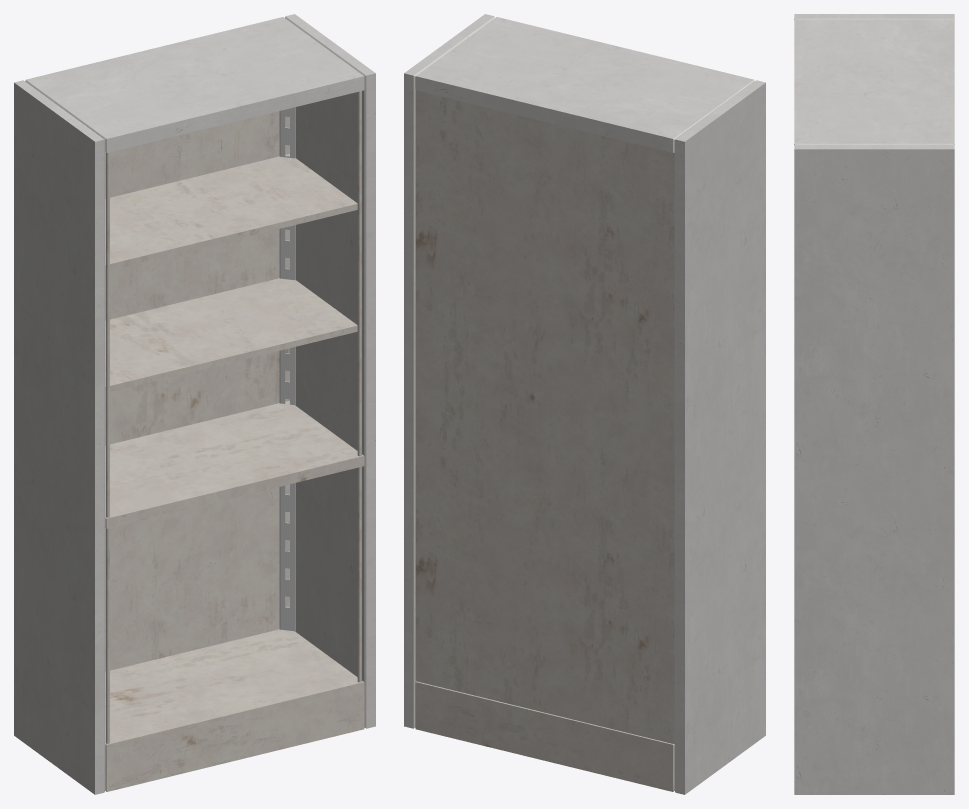
The model's file is cabinet.fbx.
3 views of the same model, side by side, from view 1: azimuth 30°, elevation 25°; view 2: azimuth 150°, elevation 25°; view 3: azimuth 270°, elevation 25° (orthographic).
Visible parts, largest first — view 1: KB3D_ECE_BldgIntOperatingRoom_A_CabinetB; view 2: KB3D_ECE_BldgIntOperatingRoom_A_CabinetB; view 3: KB3D_ECE_BldgIntOperatingRoom_A_CabinetB.
Part boxes in pixels (x1=…): KB3D_ECE_BldgIntOperatingRoom_A_CabinetB: x1=14, y1=14, x2=375, y2=794; KB3D_ECE_BldgIntOperatingRoom_A_CabinetB: x1=404, y1=14, x2=765, y2=794; KB3D_ECE_BldgIntOperatingRoom_A_CabinetB: x1=794, y1=14, x2=954, y2=794.
Size of the model in its own units: 90 by 200 by 45.
